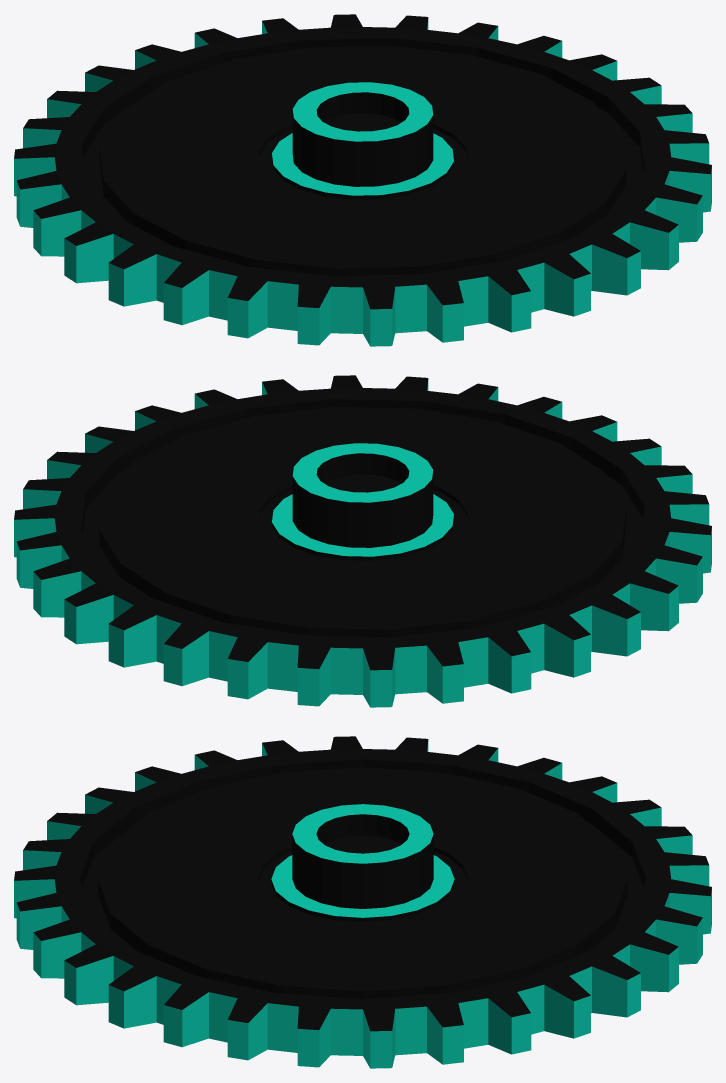
The model's file is D3GearV1.fbx.
3 renders of one model, top to bottom at view 1: azimuth 30°, elevation 25°; view 2: azimuth 150°, elevation 25°; view 3: azimuth 270°, elevation 25°, orthographic.
Visible parts, largest first — view 1: D3GearV1; view 2: D3GearV1; view 3: D3GearV1.
Boxes of the visible parts, x1,y1,x2,y2 form: D3GearV1: [14, 14, 711, 346]; D3GearV1: [14, 375, 711, 707]; D3GearV1: [14, 736, 711, 1068].
Size of the model in its own units: 6.79 by 0.9862 by 6.79.
